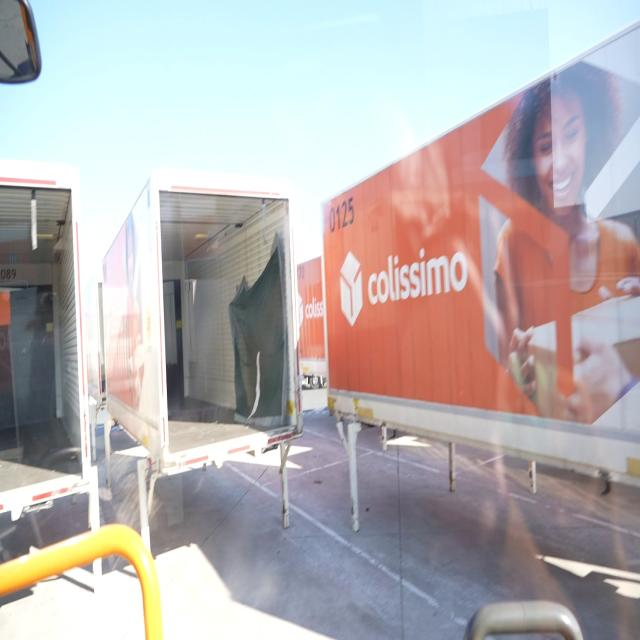Code: (327, 197, 360, 237)
